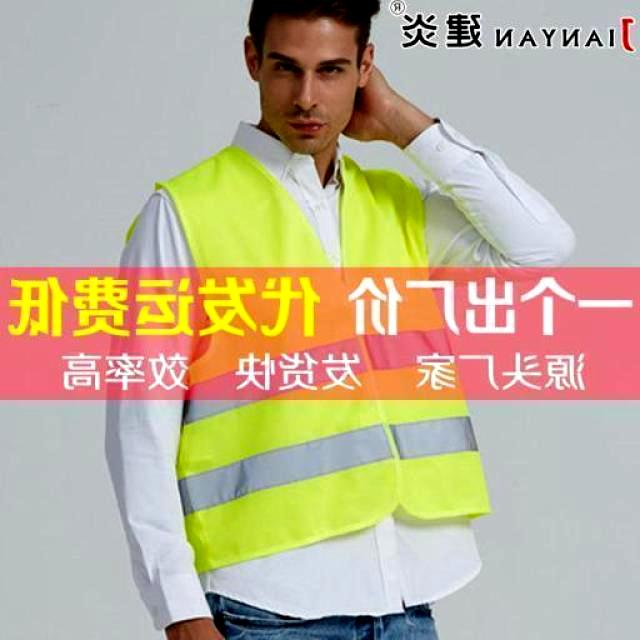no_head_wear: (249, 0, 379, 49)
person: (105, 1, 571, 639)
